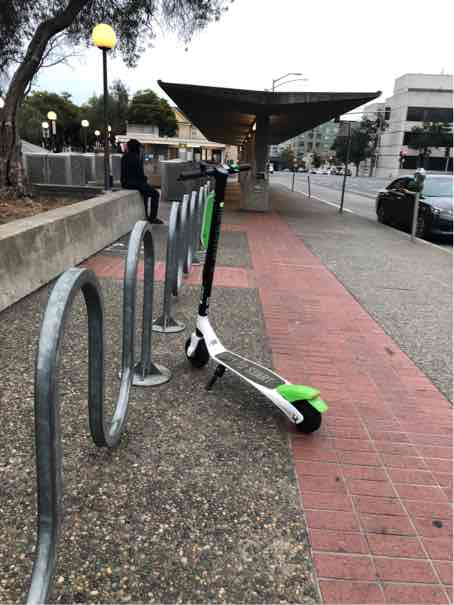scooter: (162, 140, 326, 445)
